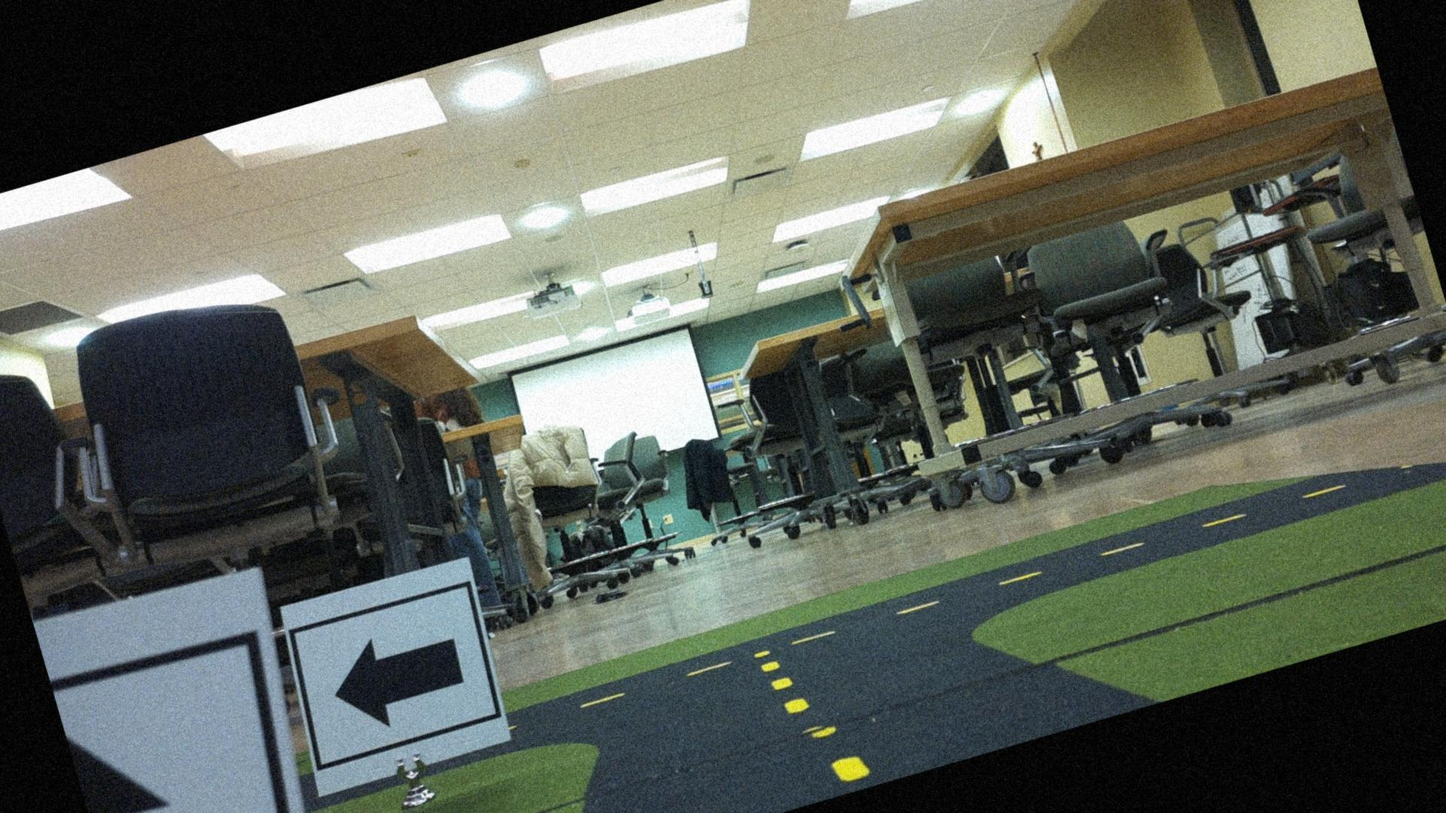turnleft: (275, 559, 510, 789)
yellowline: (761, 641, 871, 796)
